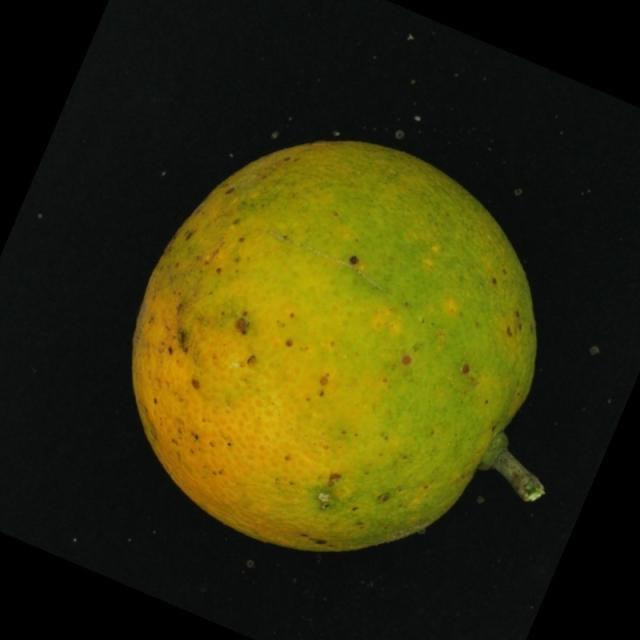grenning: (110, 120, 580, 569)
